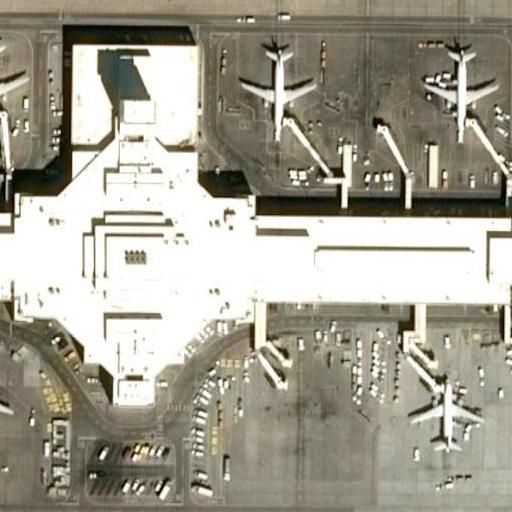Aircraft: (418, 41, 504, 139), (235, 37, 320, 133), (406, 375, 485, 464), (0, 36, 30, 129), (0, 347, 16, 463)
